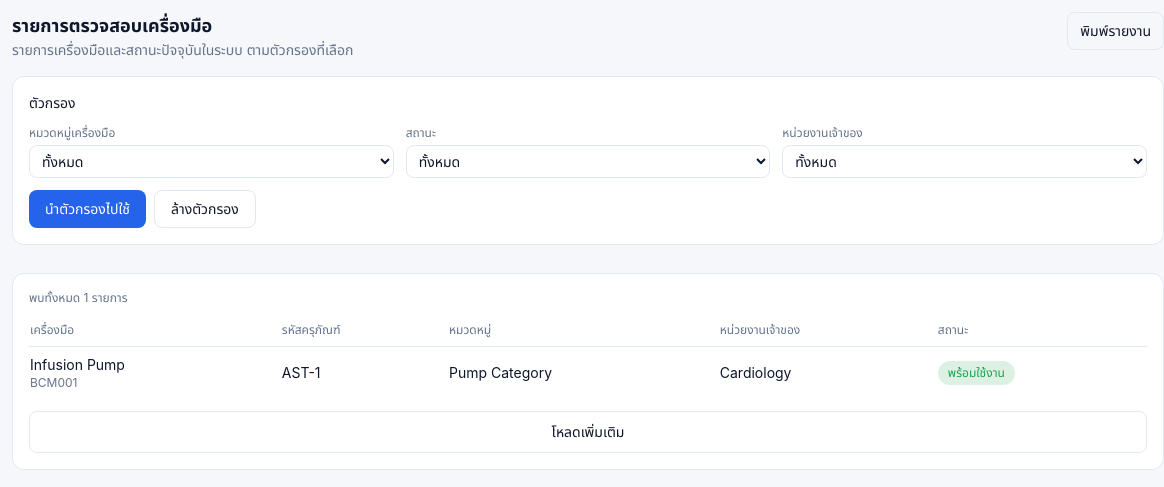
Test: EquipmentVerifyChecklistPage › appends cursor pages in backend order without re-sorting, merging, or reversing
The width and height of the screenshot is (1164, 487).
Expected: the text "AST-1" is shown, [281, 346, 448, 399]
Click the button "โหลดเพิ่มเติม": (588, 432) [29, 411, 1147, 453]
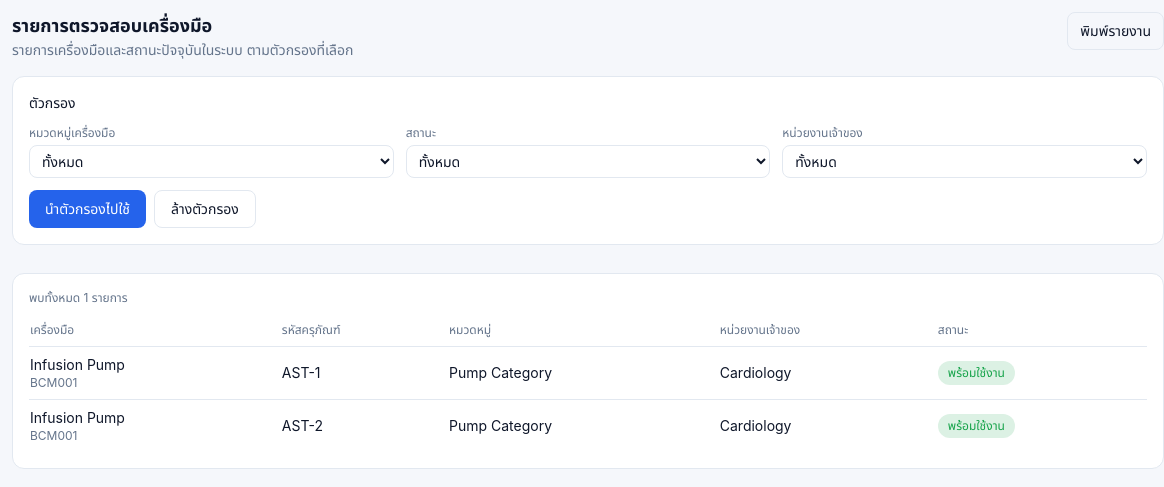
Now the text "AST-2" is shown, box [281, 400, 448, 452]
Now the 3rd row shows "AST-2", box [282, 417, 323, 434]
Now the button "โหลดเพิ่มเติม" is gone
